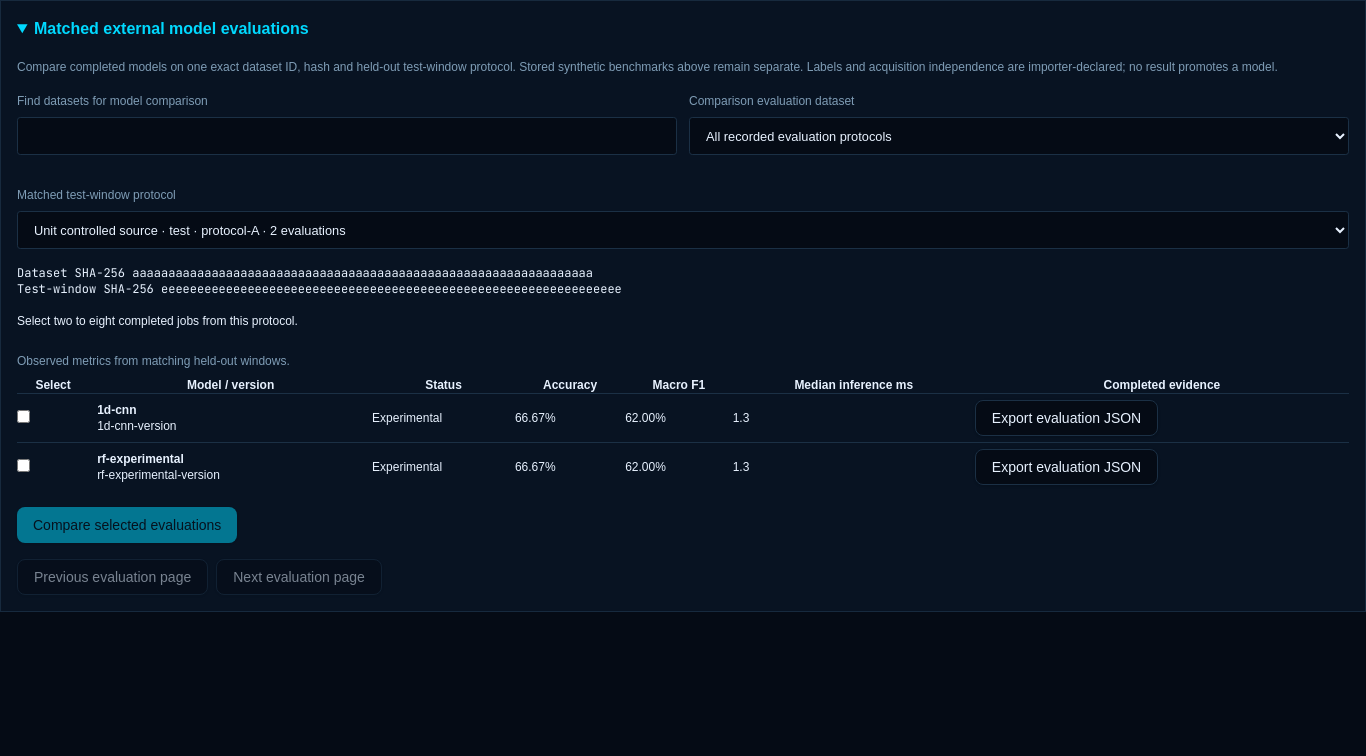
Test: Genuine research evaluation controls › submits only chosen jobs within one displayed held-out protocol
Expected: the button "Compare selected evaluations" is disabled, [17,507,237,543]
Click the checkbox named "Compare evaluation job-production": point(24, 416) [17,410,30,423]
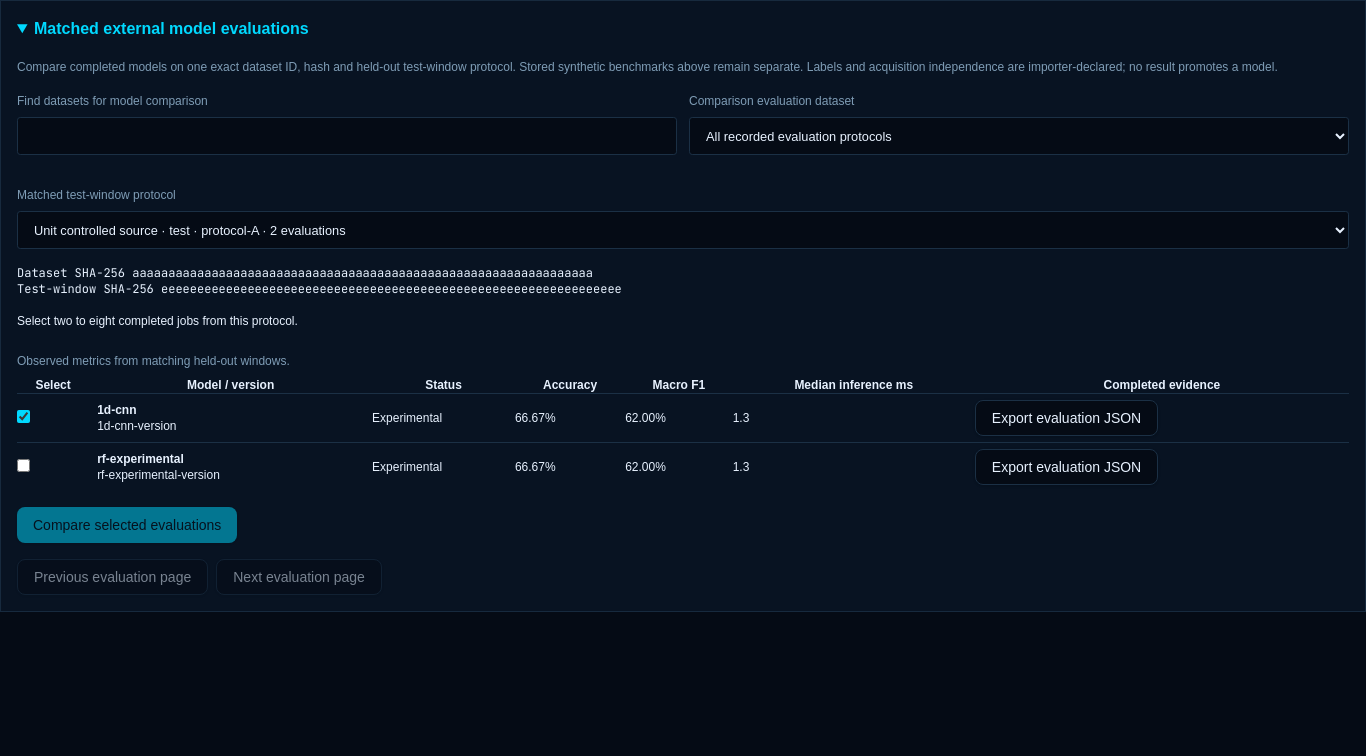
Click the checkbox named "Compare evaluation job-rf": point(24, 465) [17,459,30,472]
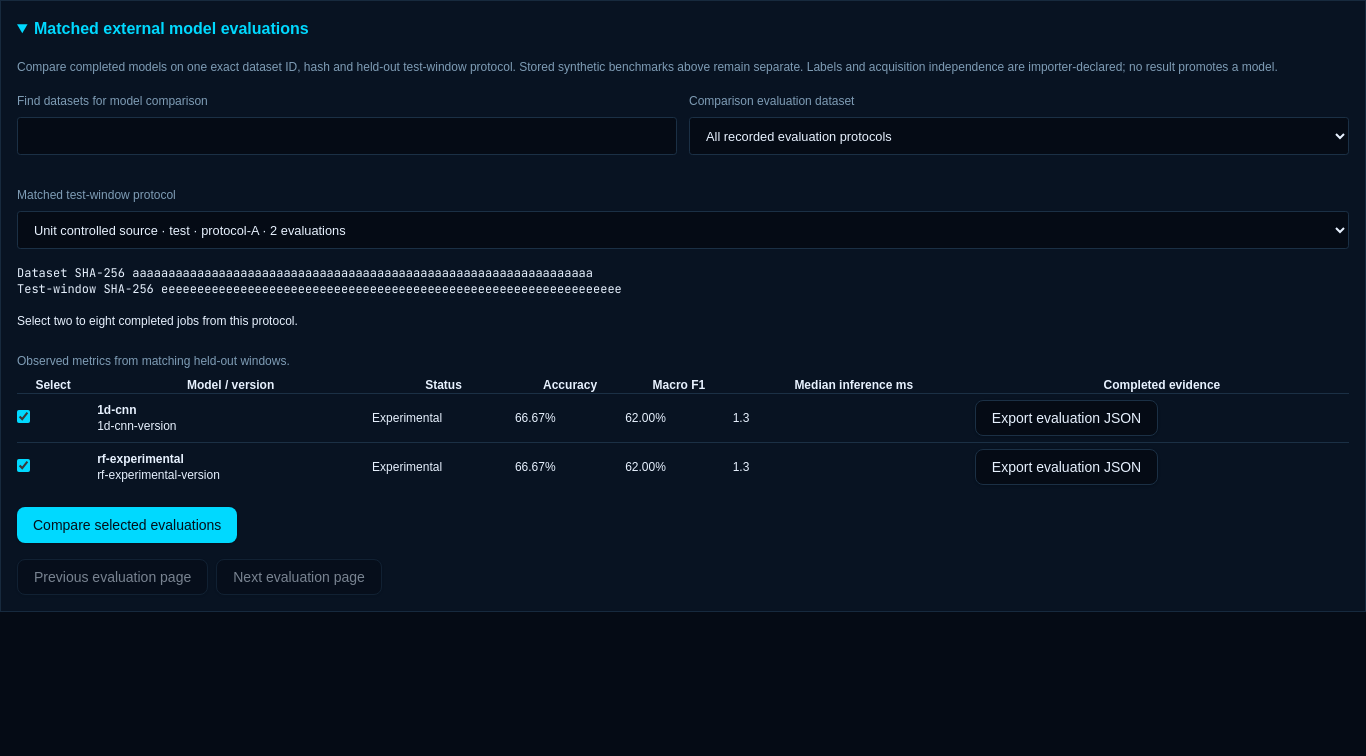
Click the button "Compare selected evaluations": point(127, 525) [17,507,237,543]
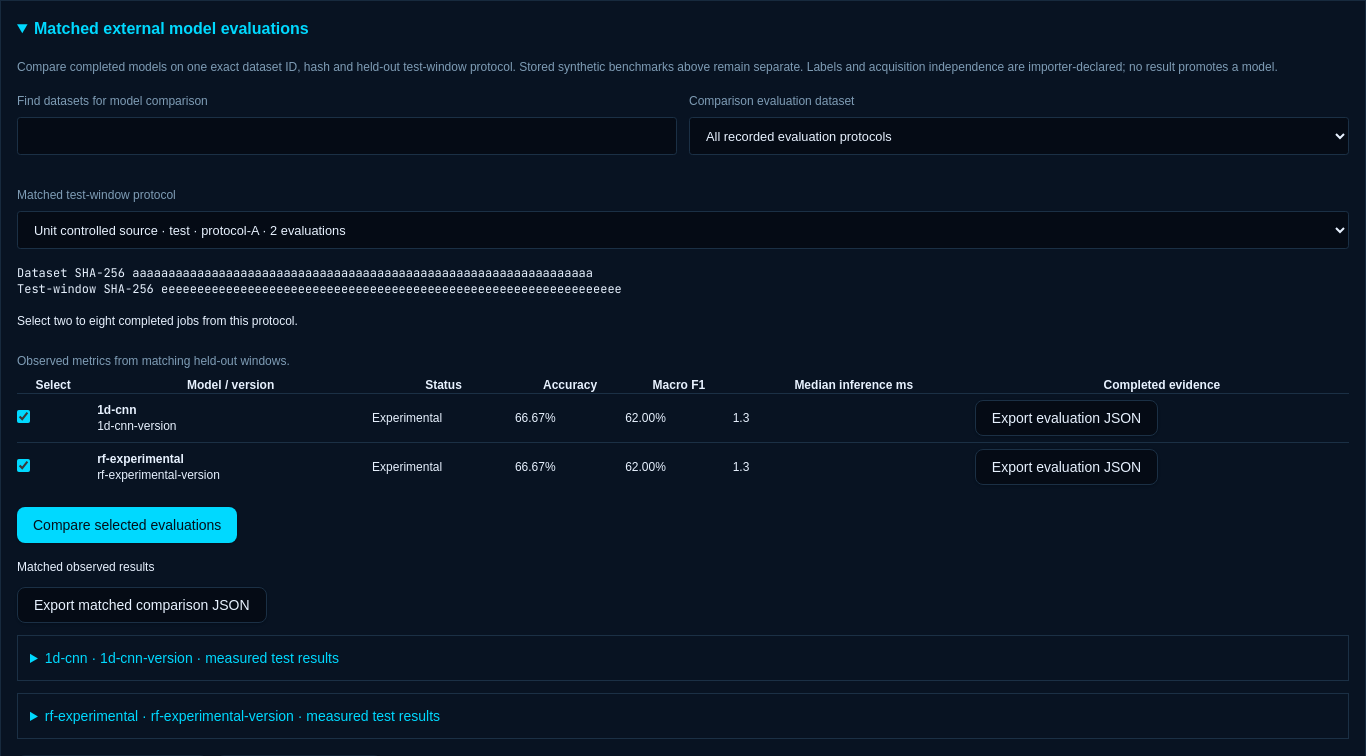
Now the text "Matched observed results" is shown, box [17,560,154,574]
Select "Unit controlled source · test · protocol-B · 1 evaluations" in the dropdown labelled "Matched test-window protocol": point(683, 230) [17,211,1349,249]
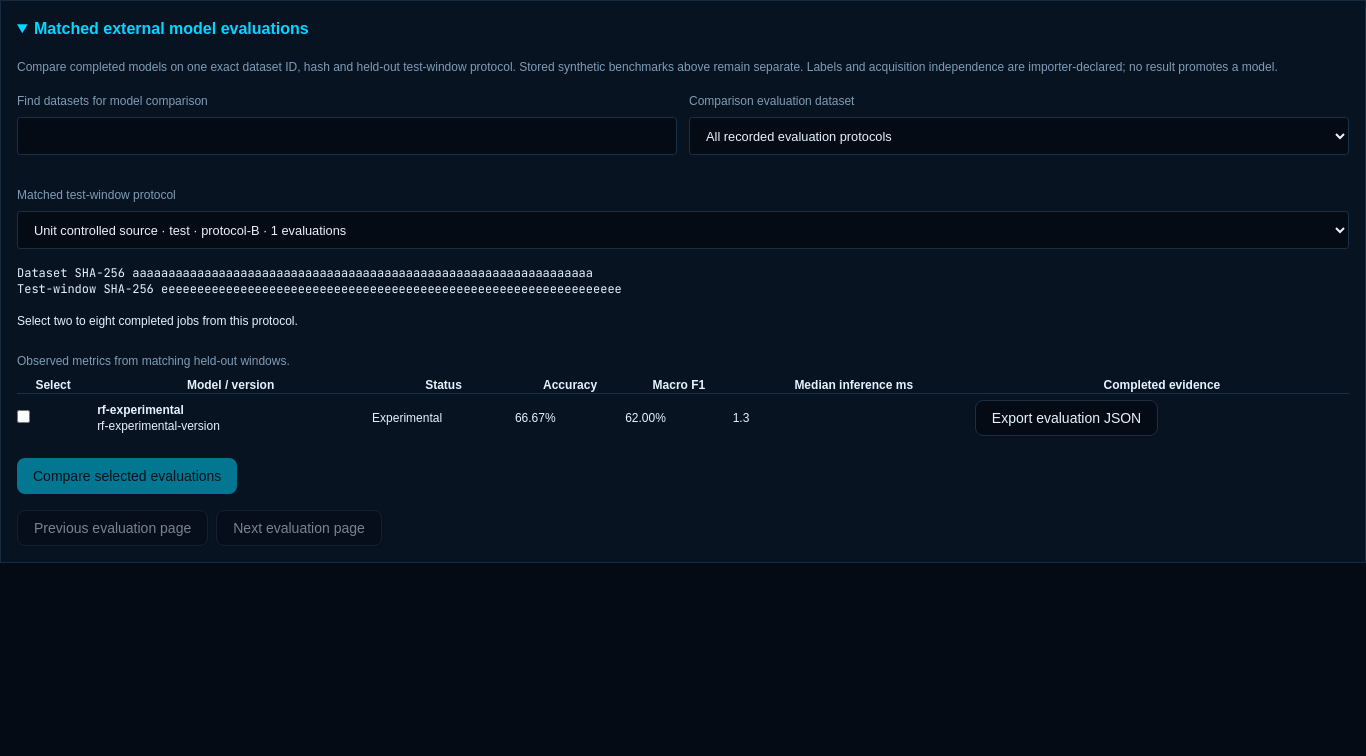
Now the button "Compare selected evaluations" is disabled, box [17,458,237,494]
